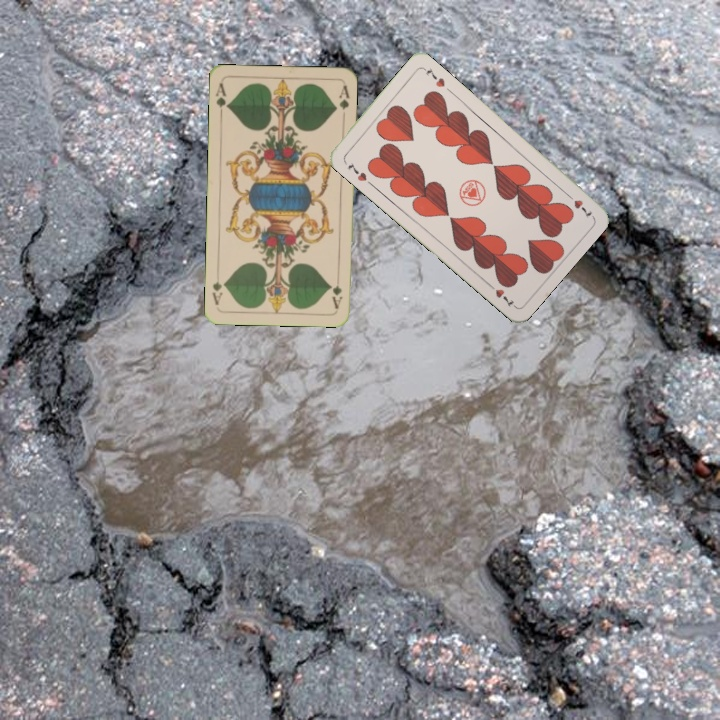GA: (212, 79, 231, 120), (328, 270, 345, 311)
H7: (562, 189, 595, 221), (343, 158, 369, 184)
